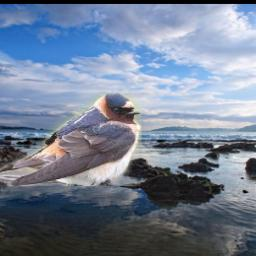Swallow: (0, 94, 141, 187)
